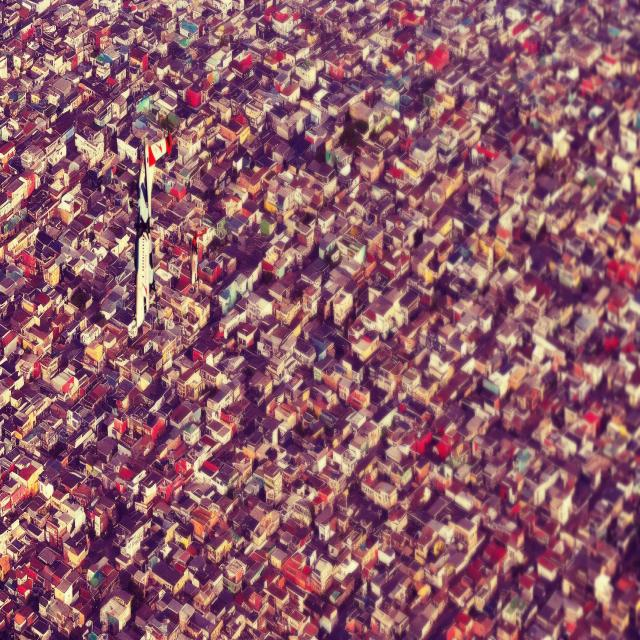airplane: (135, 134, 172, 329), (191, 228, 208, 286)
